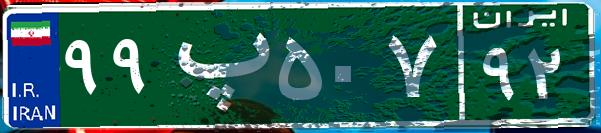0: (330, 28, 385, 110)
2: (525, 38, 570, 115)
5: (273, 28, 330, 110)
7: (385, 28, 445, 110)
9: (57, 26, 110, 107), (475, 38, 525, 113), (110, 28, 158, 105)
پ: (158, 15, 273, 115)
